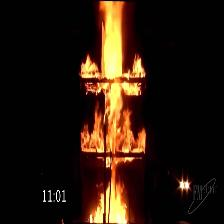fire: (89, 1, 133, 222)
